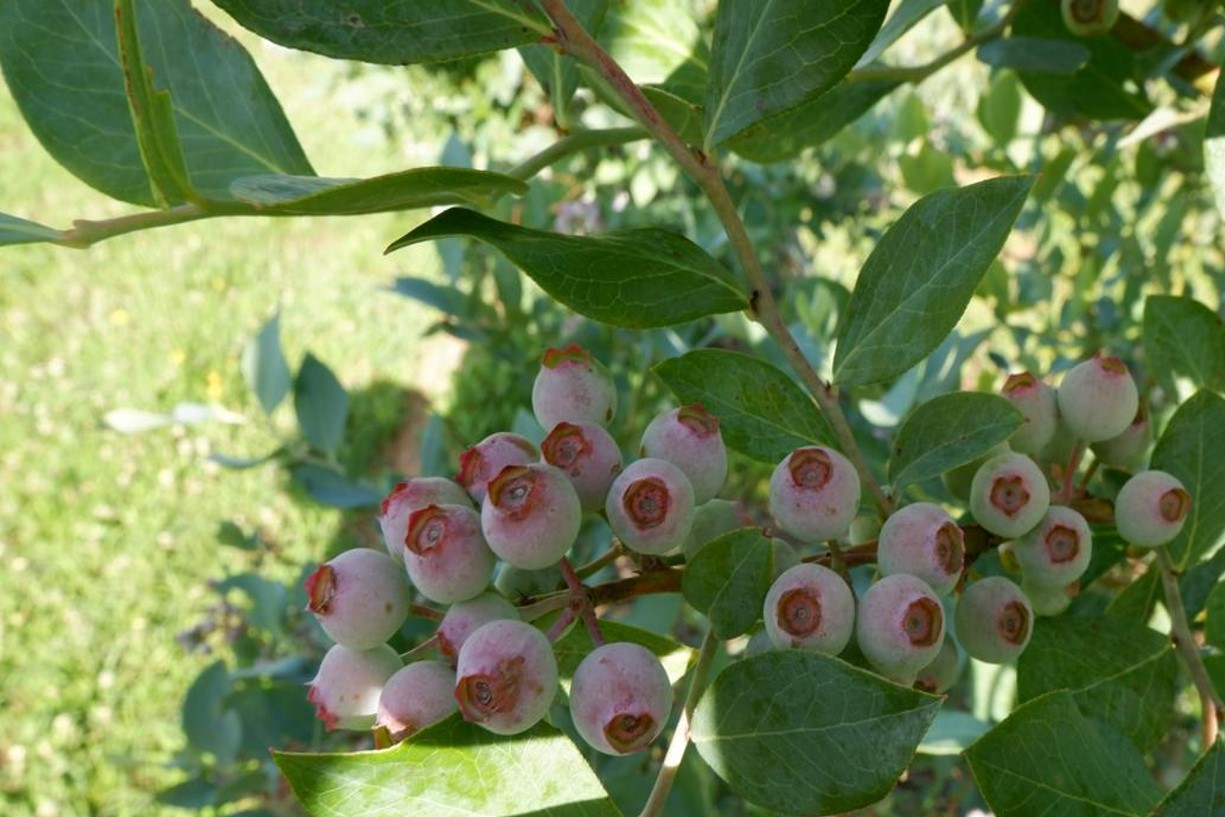Immature: (454, 620, 560, 735), (572, 641, 671, 755), (480, 463, 581, 571), (305, 548, 412, 649), (374, 475, 477, 574), (998, 372, 1085, 487), (403, 504, 497, 605), (304, 642, 406, 733), (770, 447, 862, 545), (638, 405, 728, 505), (606, 459, 697, 553), (857, 576, 945, 673), (764, 564, 855, 657), (876, 505, 967, 598), (537, 419, 626, 512), (533, 341, 620, 434), (956, 576, 1037, 663), (971, 453, 1052, 538), (1058, 358, 1138, 444), (379, 660, 459, 744), (456, 432, 540, 511), (1015, 507, 1094, 590), (438, 592, 522, 668), (1113, 473, 1193, 549), (681, 500, 755, 564), (941, 440, 1014, 500), (1086, 397, 1149, 462), (913, 629, 958, 695), (1020, 579, 1083, 617), (771, 537, 802, 585), (743, 626, 775, 660)
